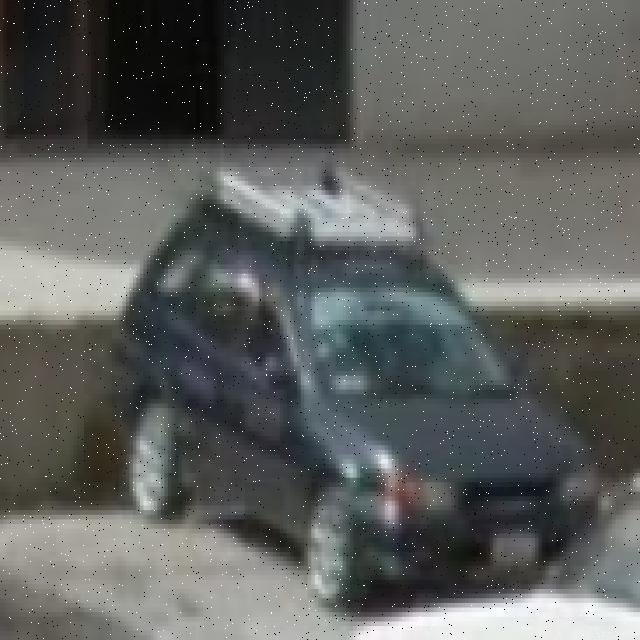cars: (123, 172, 595, 603)
